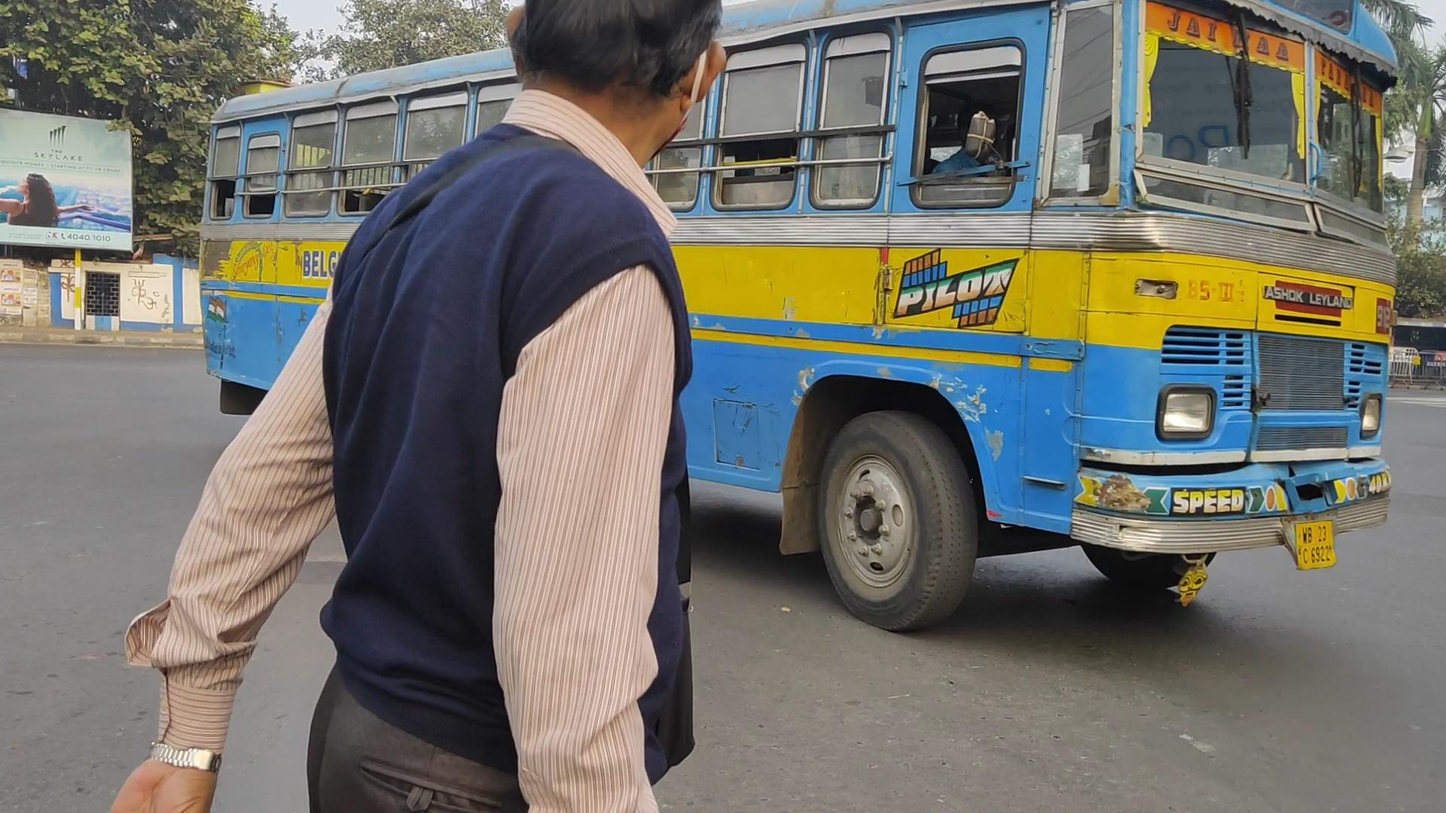Bus: (199, 2, 1402, 632)
